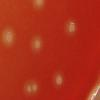white: (62, 16, 78, 36), (2, 27, 17, 47), (30, 34, 44, 53), (53, 71, 66, 90), (30, 0, 47, 11), (31, 80, 40, 96), (24, 81, 33, 96)
